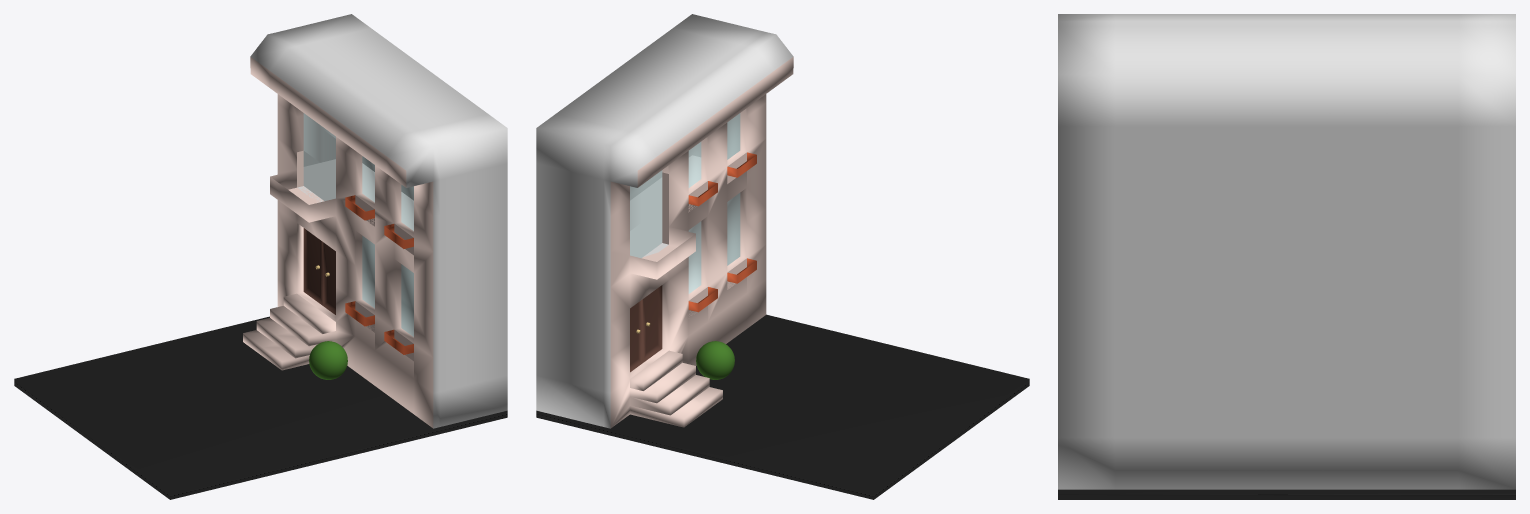
The model's file is Greenwhich_test.glb.
3 renders of one model, left to right at view 1: azimuth 30°, elevation 25°; view 2: azimuth 150°, elevation 25°; view 3: azimuth 270°, elevation 25°, orthographic. The views are drawn at different scales.
Parts seen in each view (by area): view 1: Cube, Ground, Shrub; view 2: Cube, Ground, Shrub; view 3: Cube, Ground.
Boxes of the visible parts, left/top/right/bottom form: Cube: left=243, top=14, right=507, bottom=428; Ground: left=14, top=316, right=507, bottom=499; Shrub: left=309, top=341, right=347, bottom=379; Cube: left=536, top=14, right=793, bottom=428; Ground: left=536, top=314, right=1029, bottom=499; Shrub: left=696, top=341, right=734, bottom=379; Cube: left=1058, top=14, right=1515, bottom=489; Ground: left=1058, top=489, right=1515, bottom=499.
Size of the model in its own units: 10 by 8.21 by 8.
